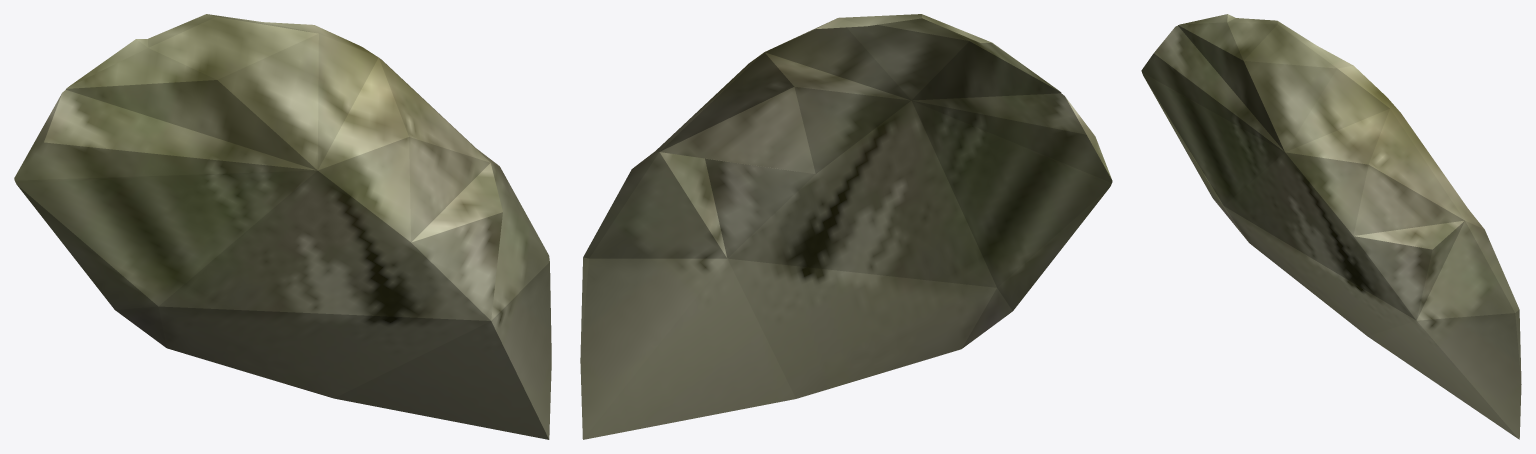
The picture shows the model from 3 angles, left to right: view 1: azimuth 30°, elevation 25°; view 2: azimuth 150°, elevation 25°; view 3: azimuth 330°, elevation 25°; orthographic projection. The views are drawn at different scales.
Size of the model in its own units: 0.8854 by 0.802 by 0.1433.
1 material, 1 textured.
